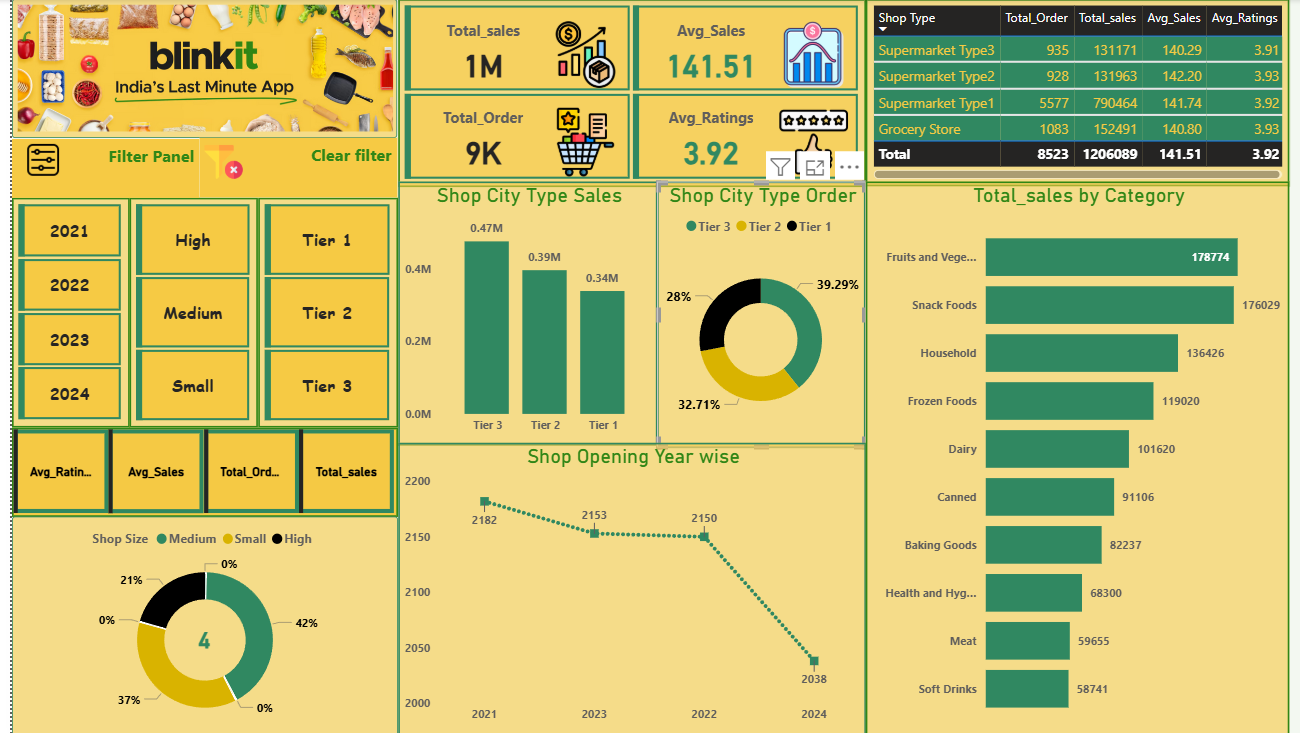

The dashboard page shown, as its layout file describes it:
{"tool":"powerbi","page":{"name":"Page 1","canvas":[1280,720],"ordinal":0},"visuals":[{"type":"image","box":[0,0,376.6,135.7],"z":0},{"type":"cardVisual","fields":{"Data":["Grocery Shop.Total_sales","Grocery Shop.Avg_Sales","Grocery Shop.Total_Order","Grocery Shop.Avg_Ratings"]},"box":[377.5,0,457.5,183.8],"z":1000},{"type":"advancedSlicerVisual","fields":{"Values":["Filter.Filter"]},"box":[0,419.4,377.9,86.8],"z":2000},{"type":"donutChart","fields":{"Y":["Grocery Shop.Total_sales"],"Category":["Grocery Shop.Shop Size"]},"box":[0,506.2,377.5,213.8],"z":3000},{"type":"card","fields":{"Values":["Grocery Shop.Total_sales"]},"box":[140.6,587,95.4,79.5],"z":4000},{"type":"clusteredColumnChart","title":"Shop City Type Sales","fields":{"Category":["Grocery Shop.Shop City Type"],"Y":["Grocery Shop.Total_sales"]},"box":[377.5,178.8,253.8,258.8],"z":5000},{"type":"donutChart","title":"Shop City Type Order","fields":{"Category":["Grocery Shop.Shop City Type"],"Y":["Grocery Shop.Total_sales"]},"box":[631,178.5,204.2,260.5],"z":6000},{"type":"tableEx","fields":{"Values":["Grocery Shop.Shop Type","Grocery Shop.Total_Order","Grocery Shop.Total_sales","Grocery Shop.Avg_Sales","Grocery Shop.Avg_Ratings"]},"box":[835.2,0,414.5,183.4],"z":7000},{"type":"lineChart","title":"Shop Opening Year wise","fields":{"Category":["Grocery Shop.Shop Opening Year"],"Y":["Grocery Shop.Total_Order"]},"box":[377.5,433.8,457.5,286.2],"z":8000},{"type":"clusteredBarChart","fields":{"Category":["Grocery Shop.Category"],"Y":["Grocery Shop.Total_sales"]},"box":[835.2,178.5,414.5,541.7],"z":9000},{"type":"advancedSlicerVisual","fields":{"Values":["Grocery Shop.Shop Opening Year"]},"box":[0,194.4,114.9,225],"z":10000},{"type":"advancedSlicerVisual","fields":{"Values":["Grocery Shop.Shop Size"]},"box":[114.9,194.4,126,225],"z":11000},{"type":"advancedSlicerVisual","fields":{"Values":["Grocery Shop.Shop City Type"]},"box":[240.9,194.4,137,225],"z":12000},{"type":"textbox","box":[0,137,183.4,57.5],"z":13000},{"type":"textbox","box":[183.4,135.7,193.2,58.7],"z":14000},{"type":"image","box":[183.8,136.2,47.5,47.5],"z":15000},{"type":"image","box":[3.8,137.5,53.8,41.2],"z":16000}]}

Visuals, with their boxes in screenshot pixels (x1, y1, x2, y2), scaled from the page's 1280x720 canvas onto the 1300x733 screenshot:
image: box=[0, 0, 382, 138]
cardVisual - Grocery Shop.Total_sales x Grocery Shop.Avg_Sales: box=[383, 0, 848, 187]
advancedSlicerVisual - Filter.Filter: box=[0, 427, 384, 515]
donutChart - Grocery Shop.Total_sales x Grocery Shop.Shop Size: box=[0, 515, 383, 732]
card - Grocery Shop.Total_sales: box=[143, 598, 240, 679]
"Shop City Type Sales" clusteredColumnChart: box=[383, 182, 641, 446]
"Shop City Type Order" donutChart: box=[641, 182, 848, 447]
tableEx - Grocery Shop.Shop Type x Grocery Shop.Total_Order: box=[848, 0, 1269, 187]
"Shop Opening Year wise" lineChart: box=[383, 442, 848, 732]
clusteredBarChart - Grocery Shop.Category x Grocery Shop.Total_sales: box=[848, 182, 1269, 732]
advancedSlicerVisual - Grocery Shop.Shop Opening Year: box=[0, 198, 117, 427]
advancedSlicerVisual - Grocery Shop.Shop Size: box=[117, 198, 245, 427]
advancedSlicerVisual - Grocery Shop.Shop City Type: box=[245, 198, 384, 427]
textbox: box=[0, 139, 186, 198]
textbox: box=[186, 138, 382, 198]
image: box=[187, 139, 235, 187]
image: box=[4, 140, 58, 182]
